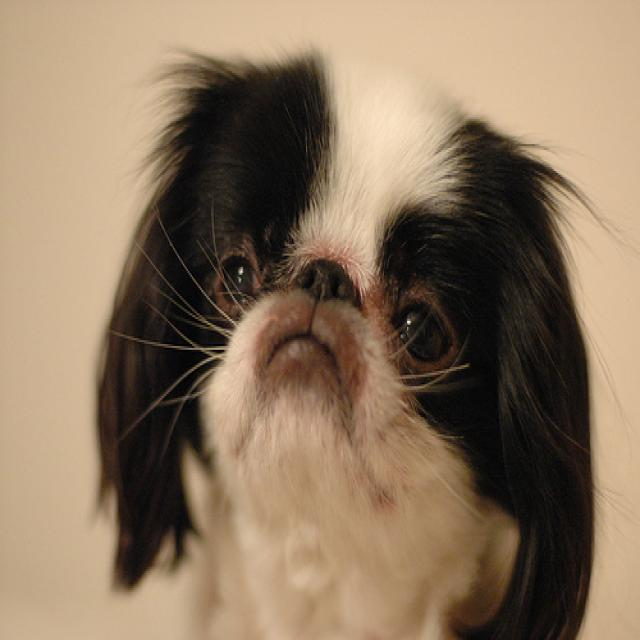dog-japanese_chin: (91, 37, 604, 636)
